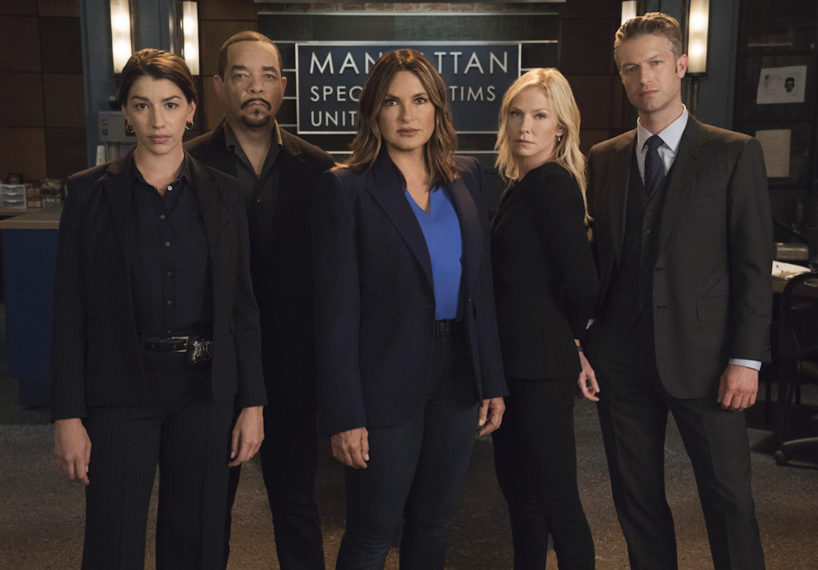Person: (596, 11, 764, 538), (323, 49, 477, 525), (85, 41, 218, 544), (221, 22, 311, 519), (505, 52, 588, 524)
